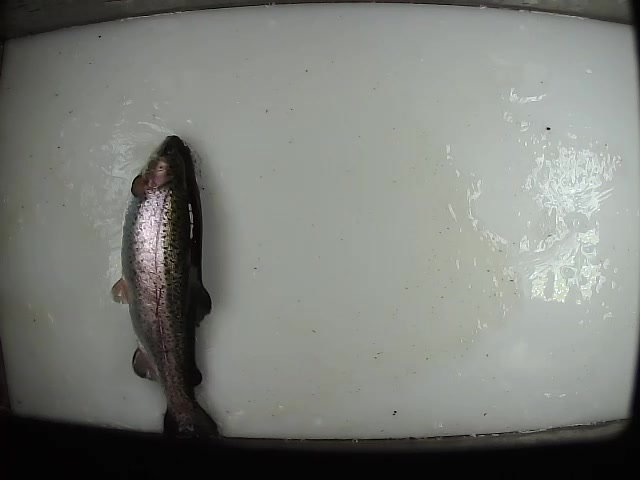fish: (110, 134, 227, 449)
